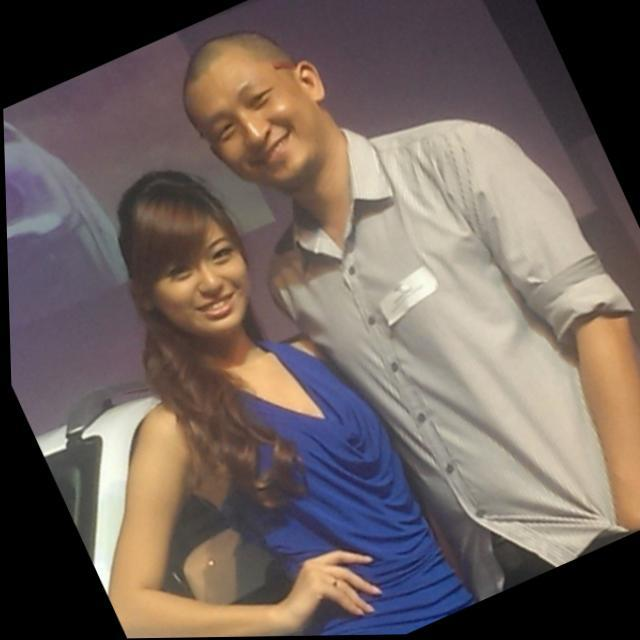Nonhelmet: (176, 22, 338, 201), (108, 160, 262, 347)
